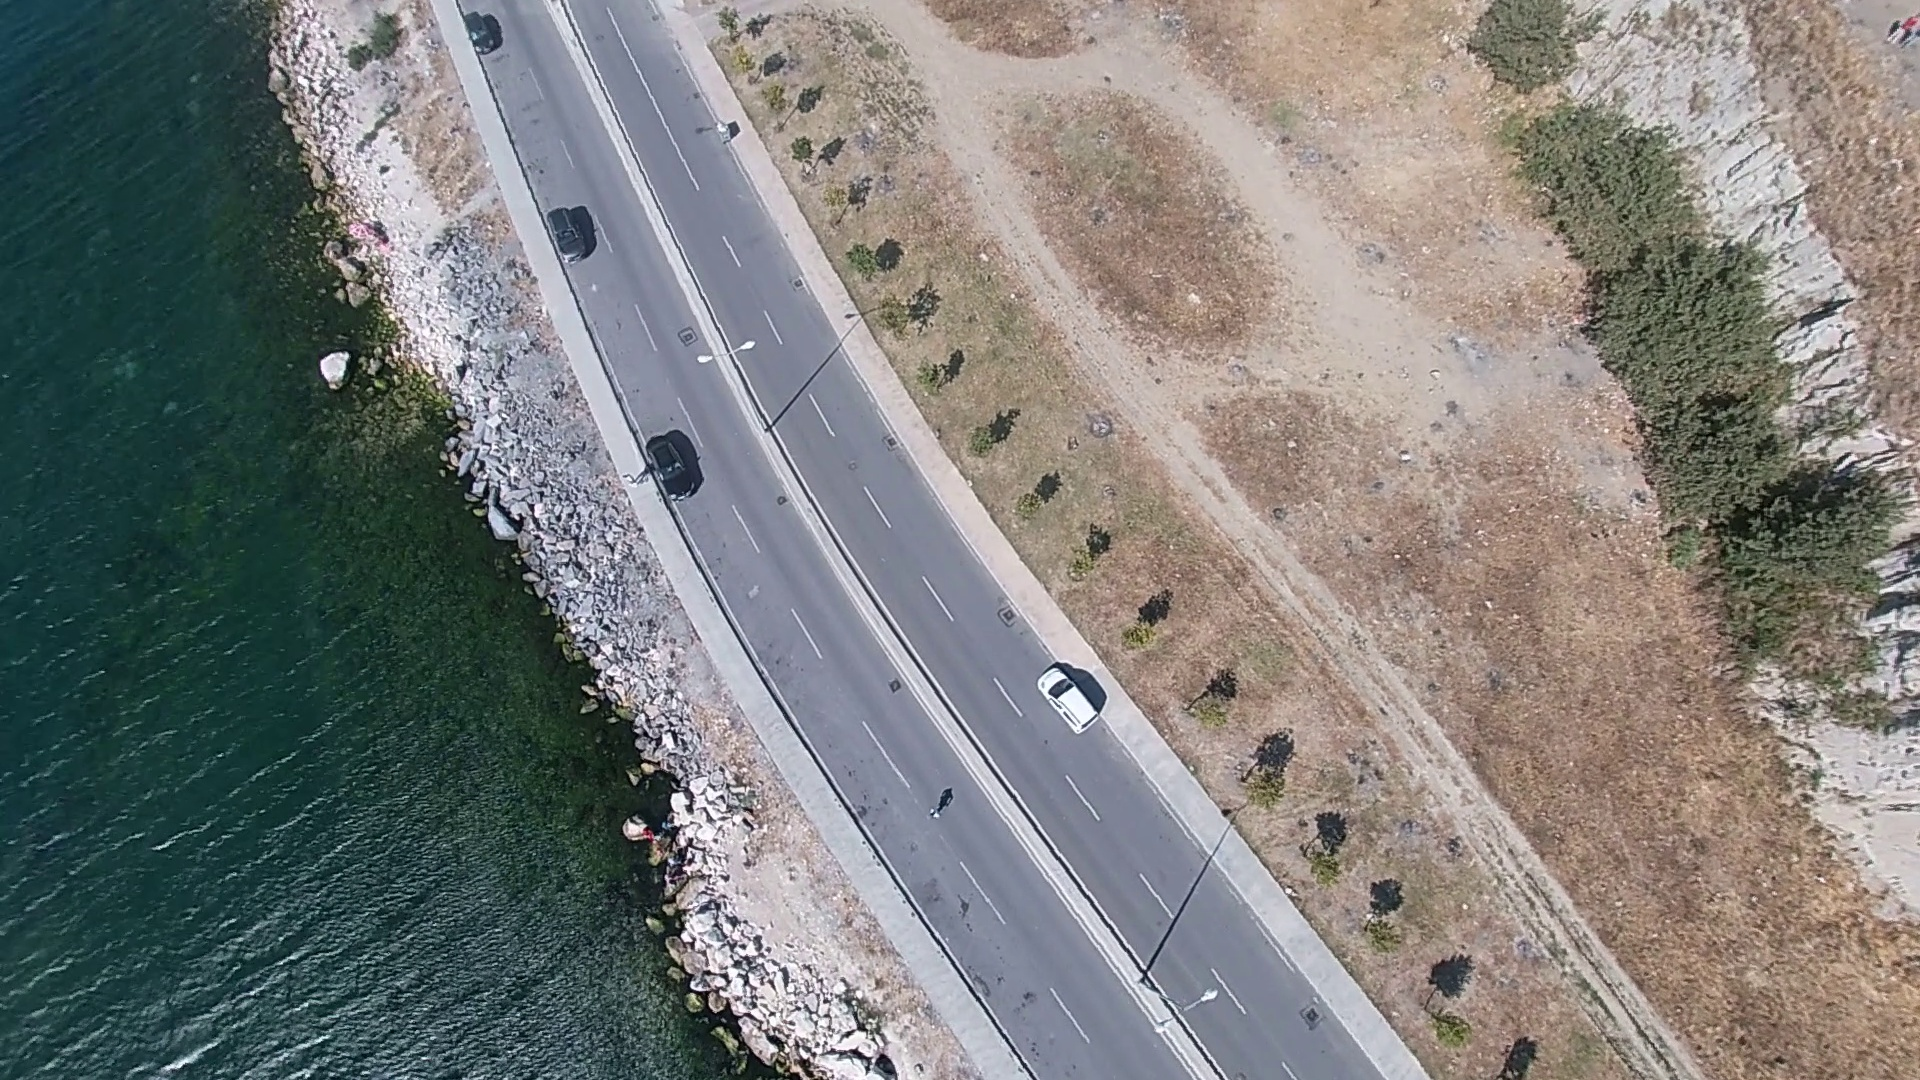arac: (1034, 659, 1105, 739), (638, 429, 698, 499), (549, 210, 590, 257), (466, 17, 501, 61)
insan: (1364, 878, 1404, 917), (864, 235, 901, 273), (1023, 471, 1061, 507)
